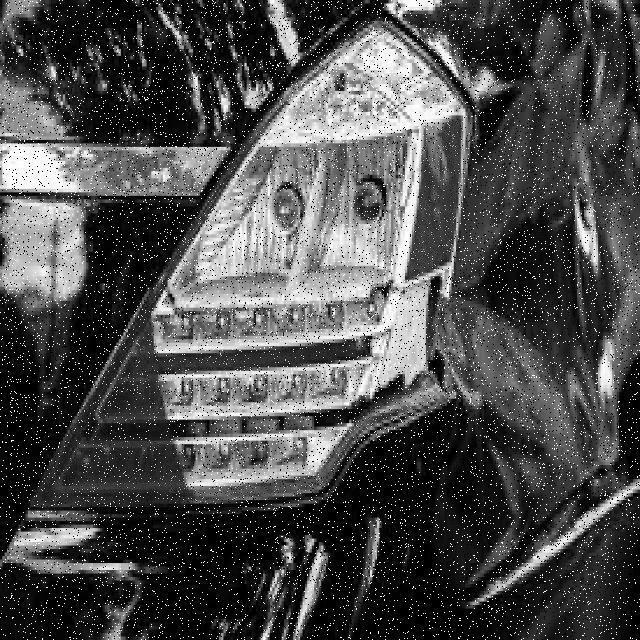Headlight-damage: (142, 1, 486, 532)
